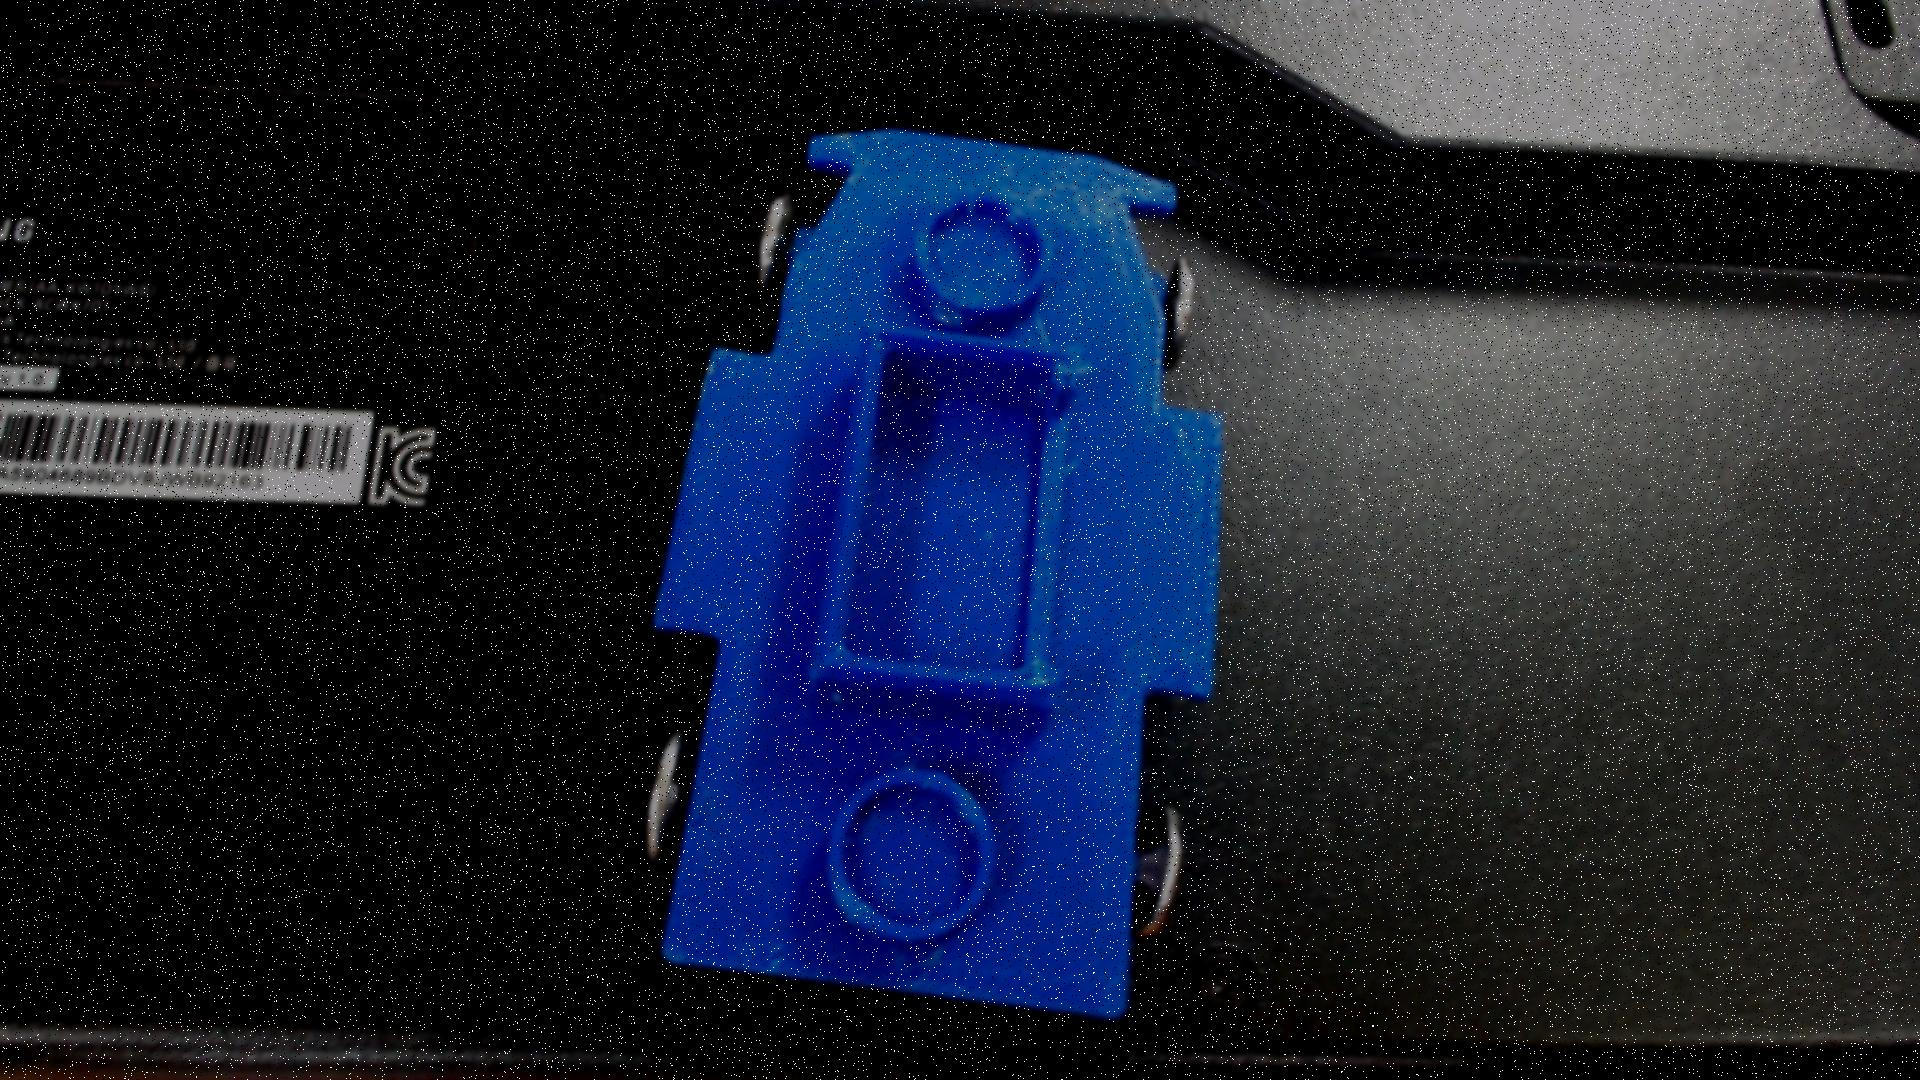lower_ng: (782, 305, 1126, 736)
